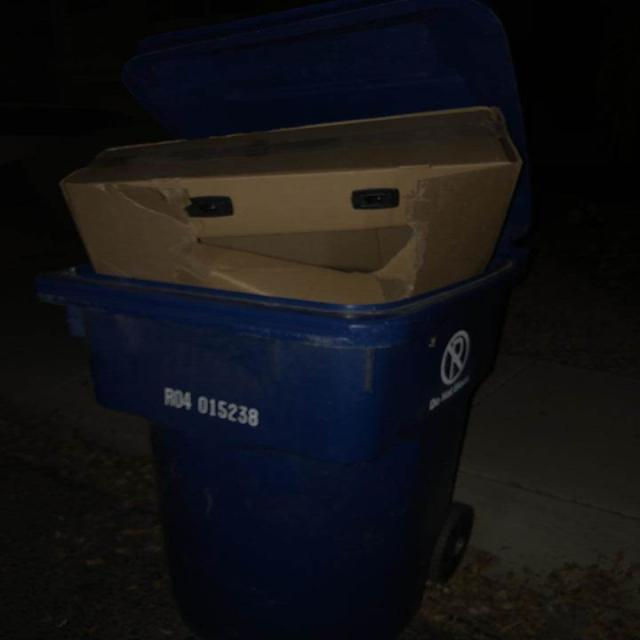cardboard: (48, 123, 542, 279)
